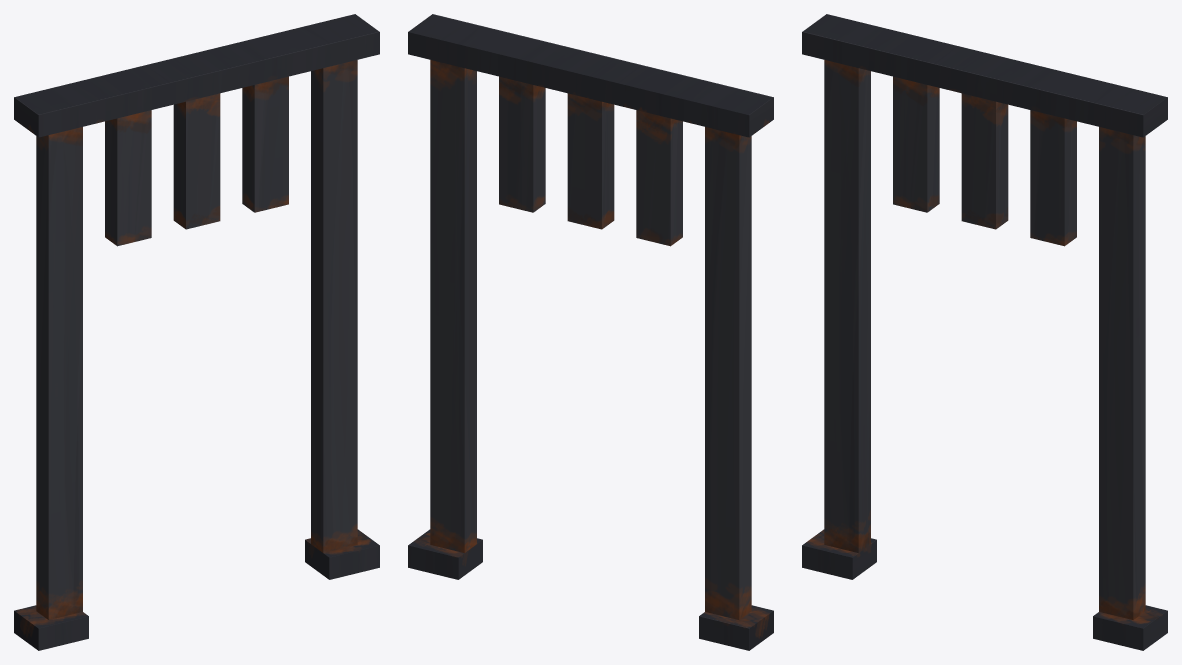
The model's file is JailBarsDoor_Mod.FBX.
3 renders of one model, left to right at view 1: azimuth 30°, elevation 25°; view 2: azimuth 150°, elevation 25°; view 3: azimuth 330°, elevation 25°, orthographic.
Parts seen in each view (by area): view 1: JailBarsDoor; view 2: JailBarsDoor; view 3: JailBarsDoor.
Part boxes in pixels (x1=…): JailBarsDoor: x1=14, y1=14, x2=379, y2=650; JailBarsDoor: x1=408, y1=14, x2=773, y2=650; JailBarsDoor: x1=802, y1=14, x2=1167, y2=650.
Size of the model in its own units: 78.74 by 118 by 9.84.
1 material, 1 textured.
